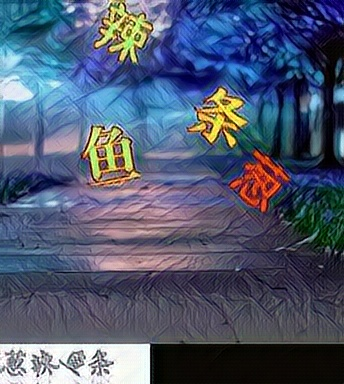B4D0: (227, 148, 288, 213)
C0B1: (91, 2, 152, 67)
CCF5: (186, 83, 247, 148)
D3E3: (80, 124, 141, 189)
